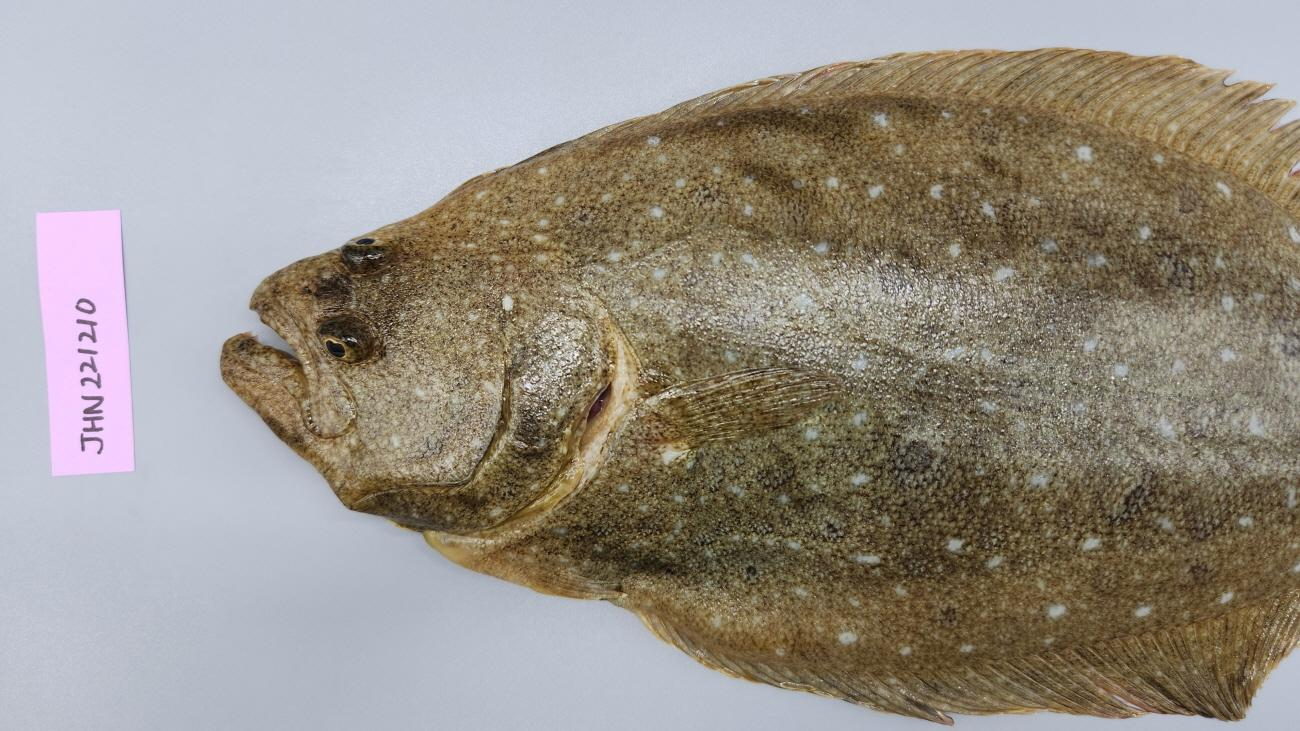POOUN: (218, 46, 1300, 727)
